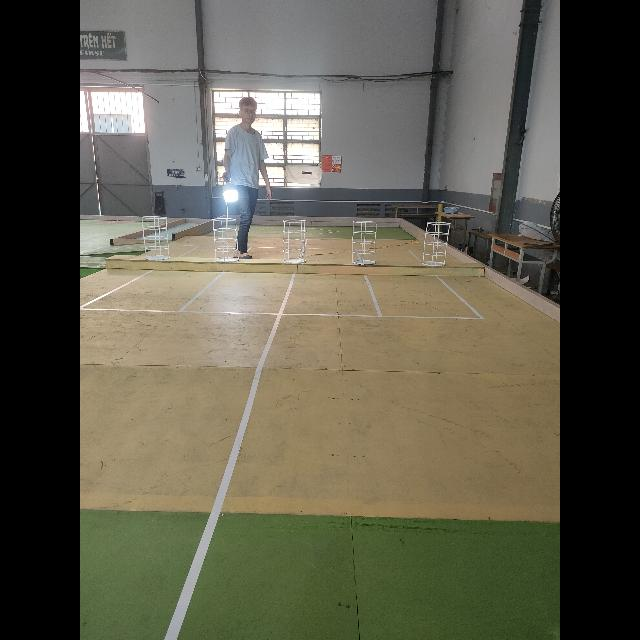S: (142, 215, 170, 261), (350, 220, 378, 266), (422, 222, 451, 266), (282, 218, 308, 264), (212, 218, 238, 262)
